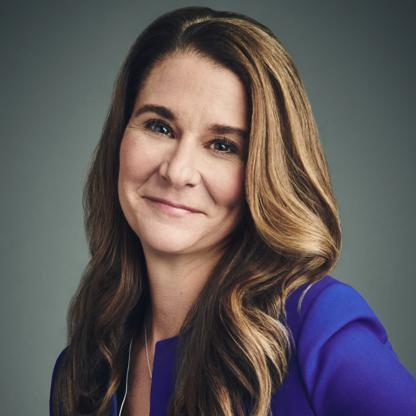Sober: (123, 58, 244, 251)
